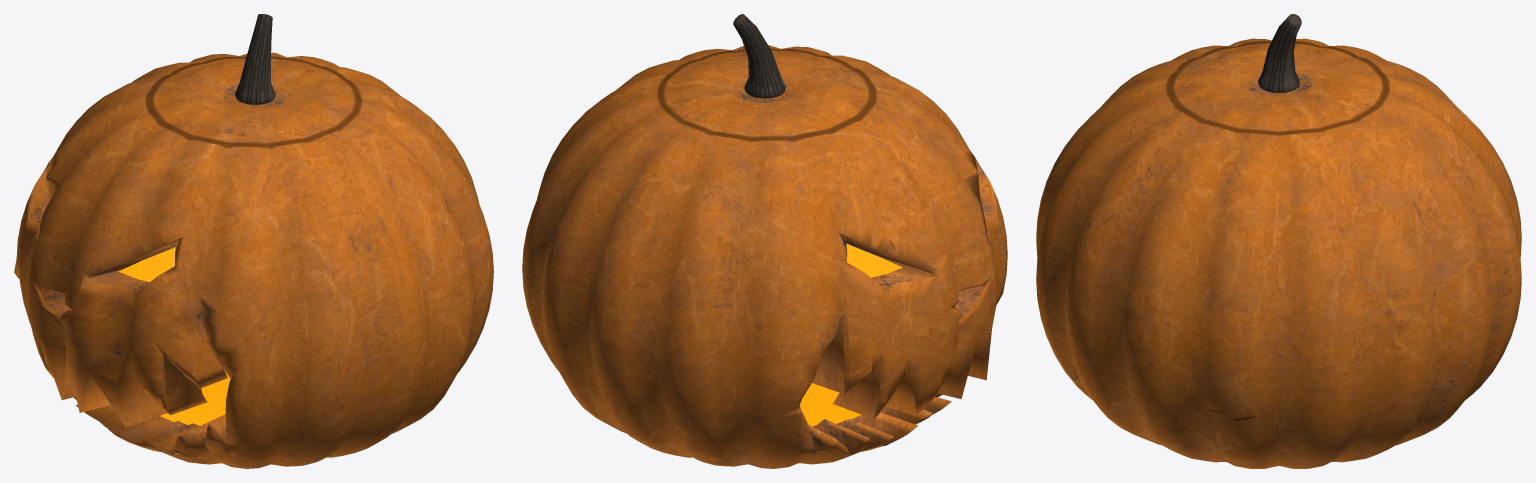
File: pumpkin_halloween.glb
The picture shows the model from 3 angles, left to right: view 1: azimuth 30°, elevation 25°; view 2: azimuth 150°, elevation 25°; view 3: azimuth 270°, elevation 25°; orthographic projection. The views are drawn at different scales.
Visible parts, largest first — view 1: Sphere, Sphere.001, Circle; view 2: Sphere, Sphere.001, Circle; view 3: Sphere, Circle.
Boxes of the visible parts, box(x1,y1,x2,y2) form: Sphere: box(14, 52, 493, 468); Sphere.001: box(118, 247, 230, 425); Circle: box(235, 14, 275, 104); Sphere: box(522, 45, 1007, 468); Sphere.001: box(799, 243, 902, 426); Circle: box(733, 14, 785, 98); Sphere: box(1036, 38, 1521, 468); Circle: box(1258, 14, 1301, 92).
Bounding box in the file's own units: 2 × 1.91 × 2.
3 materials, 2 textured.
